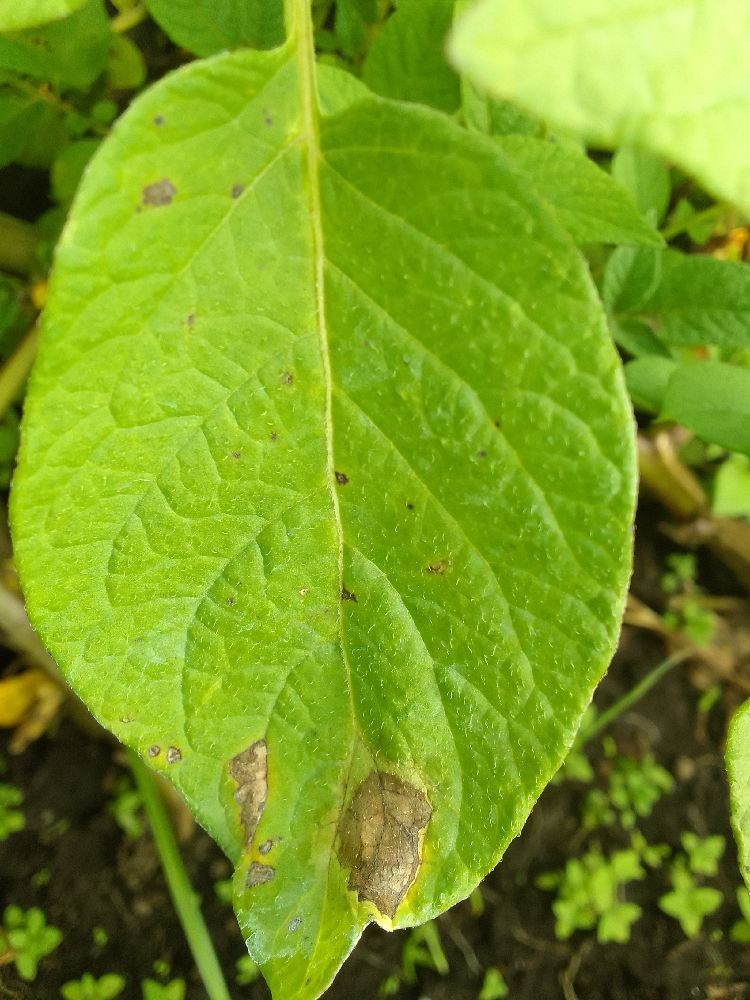late_blight: (421, 408, 749, 999), (0, 577, 316, 1000), (320, 754, 448, 934), (0, 189, 72, 396)
